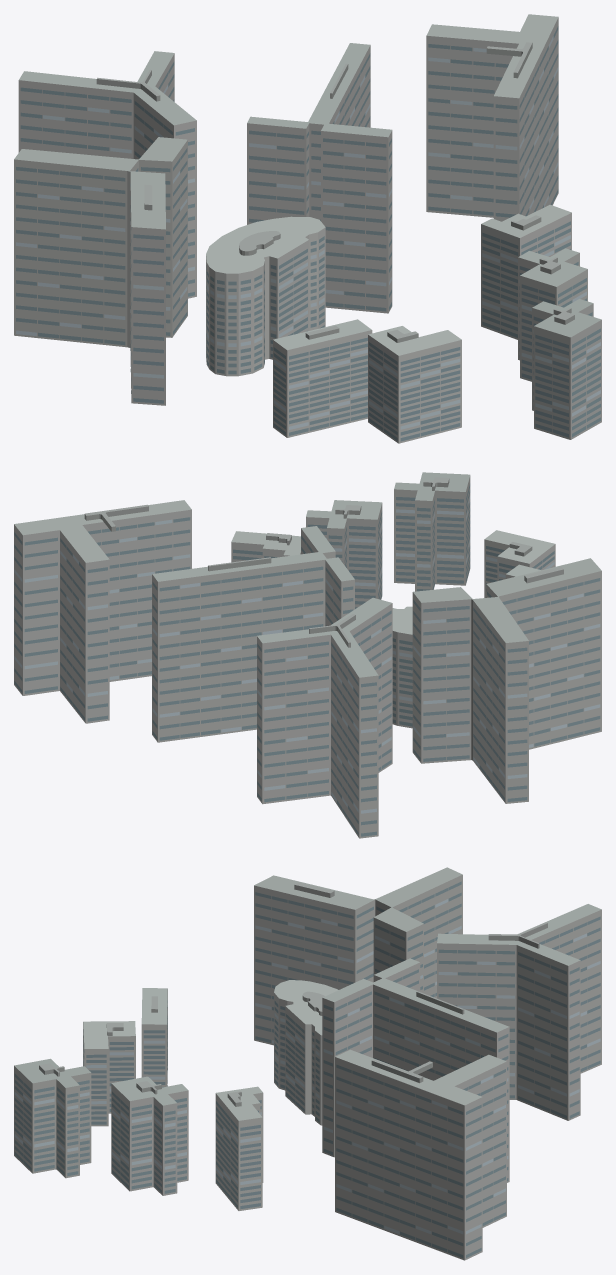
Rendered from apt-a15605103.glb.
The picture shows the model from 3 angles, top to bottom: view 1: azimuth 30°, elevation 25°; view 2: azimuth 150°, elevation 25°; view 3: azimuth 270°, elevation 25°; orthographic projection. The views are drawn at different scales.
Visible parts, largest first — view 1: apt-a15605103; view 2: apt-a15605103; view 3: apt-a15605103.
Part boxes in pixels (x1,y1,x2,y2): apt-a15605103: (14, 14, 601, 443); apt-a15605103: (14, 472, 601, 838); apt-a15605103: (14, 867, 601, 1260).
Bounding box in the file's own units: 259 × 81 × 270.
